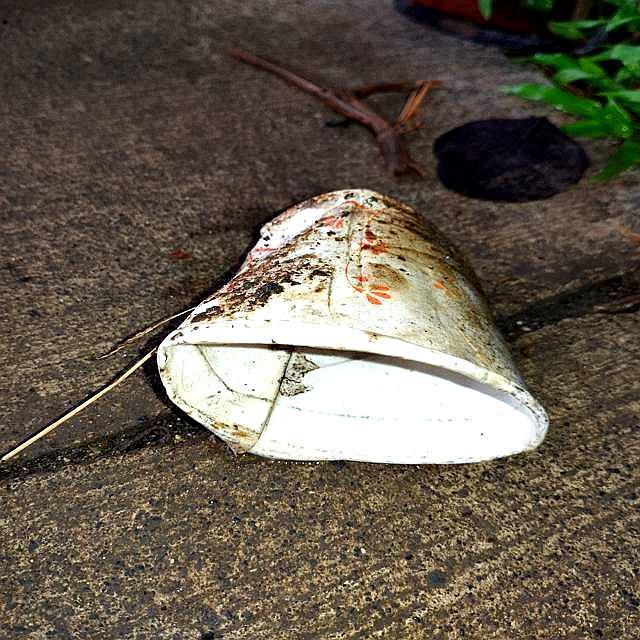Biodegradable: (86, 182, 574, 467)
